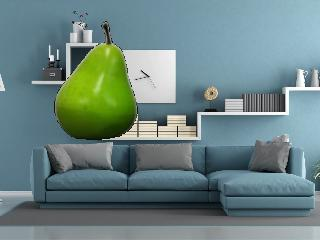pear: (54, 19, 143, 143)
